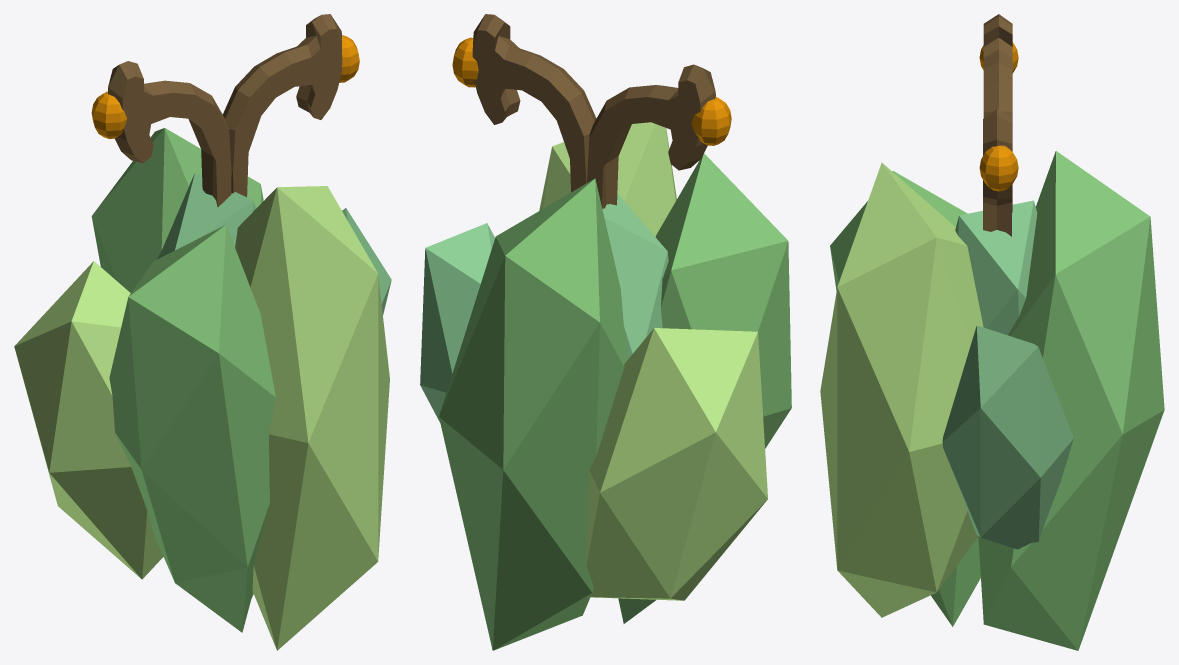
File: Machi.fbx
3 renders of one model, left to right at view 1: azimuth 30°, elevation 25°; view 2: azimuth 150°, elevation 25°; view 3: azimuth 270°, elevation 25°, orthographic. The views are drawn at different scales.
Parts seen in each view (by area): view 1: pPlatonic19, pPlatonic20, pPlatonic21, pPlatonic23, polySurface2, polySurface3, pPlatonic24, pSphere5, pPlatonic22, pSphere4; view 2: pPlatonic23, pPlatonic21, pPlatonic20, polySurface2, polySurface3, pPlatonic22, pPlatonic19, pPlatonic24, pSphere5, pSphere4; view 3: pPlatonic19, pPlatonic23, pPlatonic22, pPlatonic24, pPlatonic20, polySurface3, polySurface2, pSphere4.
Part boxes in pixels (x1,y1,x2,y2): pPlatonic19: (235, 186, 389, 650); pPlatonic20: (109, 225, 275, 632); pPlatonic21: (14, 261, 163, 579); pPlatonic23: (91, 128, 263, 598); polySurface2: (222, 14, 342, 197); polySurface3: (108, 61, 231, 207); pPlatonic24: (157, 173, 255, 259); pSphere5: (91, 91, 127, 138); pPlatonic22: (342, 208, 391, 314); pSphere4: (339, 35, 359, 82); pPlatonic23: (439, 178, 627, 650); pPlatonic21: (586, 328, 767, 600); pPlatonic20: (618, 153, 791, 623); polySurface2: (472, 14, 596, 192); polySurface3: (587, 64, 715, 208); pPlatonic22: (420, 223, 494, 422); pPlatonic19: (539, 122, 676, 236); pPlatonic24: (602, 193, 668, 359); pSphere5: (691, 96, 731, 145); pSphere4: (452, 37, 478, 87); pPlatonic19: (820, 162, 983, 617); pPlatonic23: (978, 151, 1164, 650); pPlatonic22: (942, 325, 1073, 549); pPlatonic24: (955, 200, 1037, 334); pPlatonic20: (830, 171, 980, 626); polySurface3: (983, 14, 1012, 212); polySurface2: (983, 109, 1011, 236); pSphere4: (979, 145, 1018, 191).
Size of the model in its own units: 3.76 by 6.29 by 3.46.
